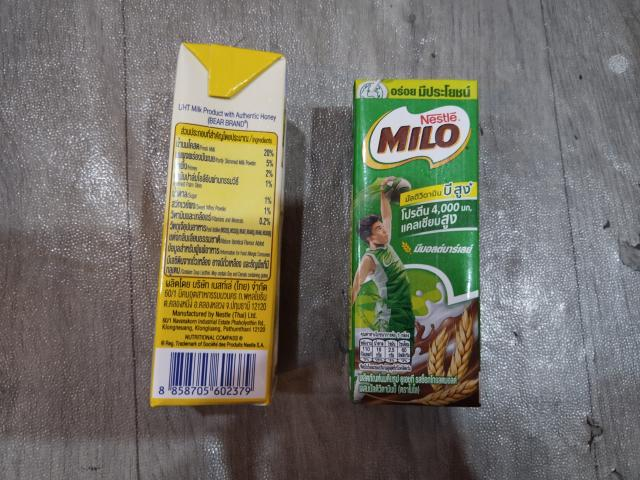drink_box: (344, 76, 488, 411), (160, 43, 283, 415)
